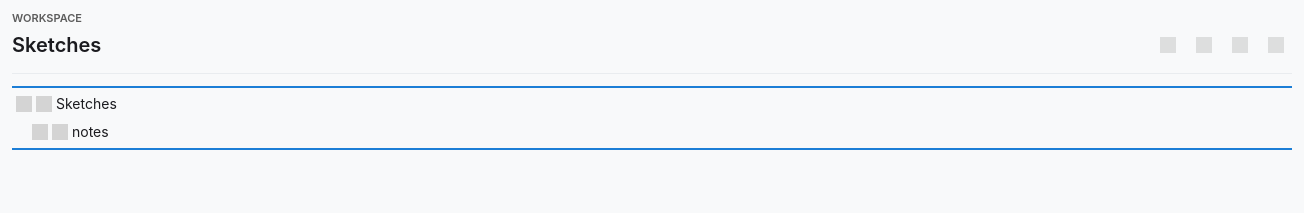
Test: WorkspacePanel › loads every not-yet-loaded nested directory from one Expand all activation
The width and height of the screenshot is (1304, 213).
Expected: the list item "notes" is shown, [32, 123, 109, 140]
Click the button named "Expand all" at (1240, 45), box [1224, 29, 1256, 61]
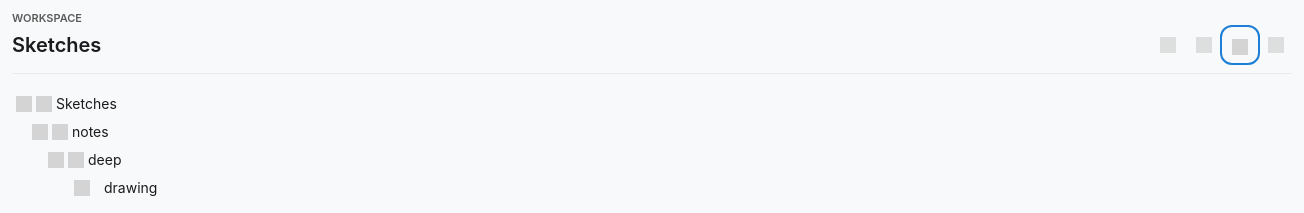
Now the list item "drawing" is shown, box [74, 179, 157, 196]
Click the button named "Collapse all" at (1240, 45), box [1224, 29, 1256, 61]
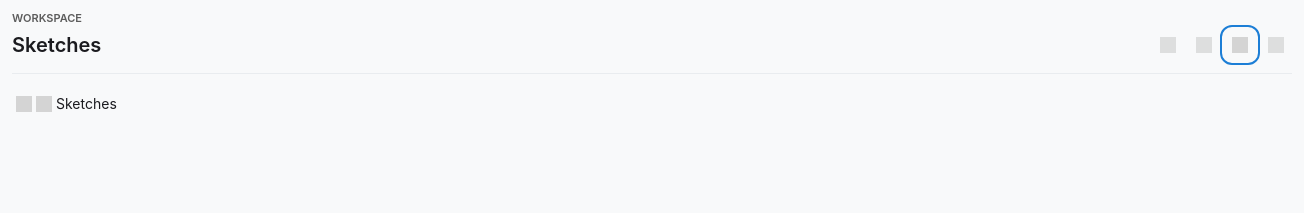
Now the text "notes" is gone
